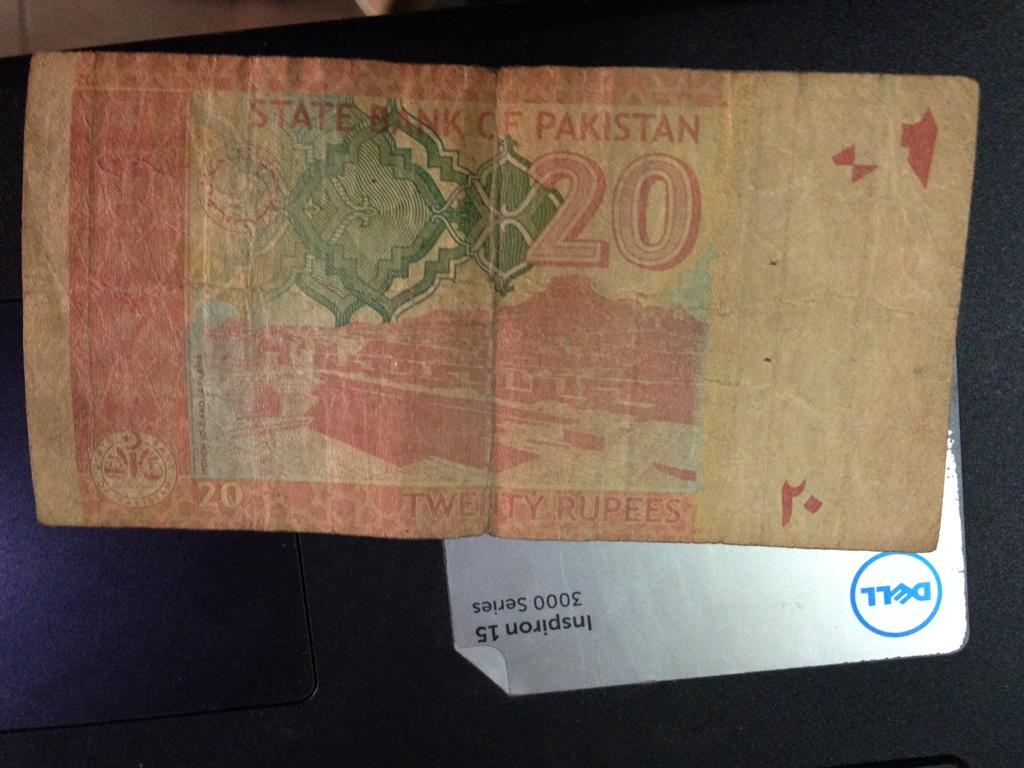20 rupee: (23, 41, 989, 583)
